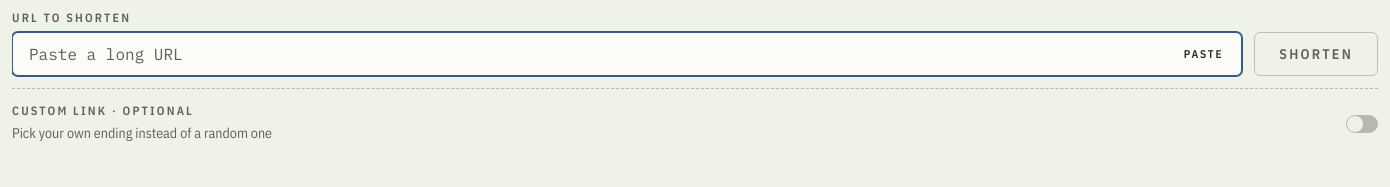
Test: UrlForm › Paste button › clears the message once the user types
Click the button "Paste" at (1204, 54), box [1173,40,1234,68]
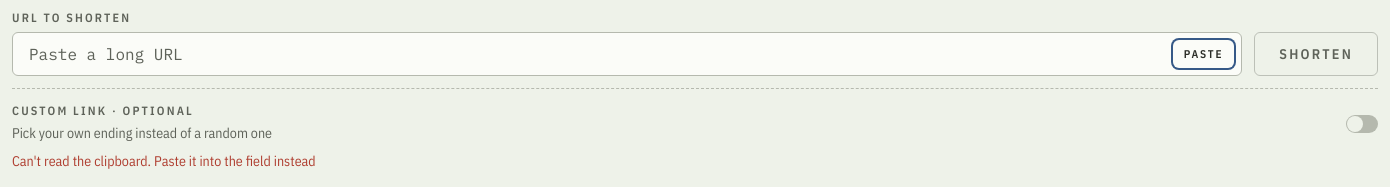
Expected: the message "Can't read the clipboard. Paste it into the field instead" is shown, [12,152,316,170]
Type "h" into the field labelled "URL to shorten" at (627, 54), box [12,32,1242,76]
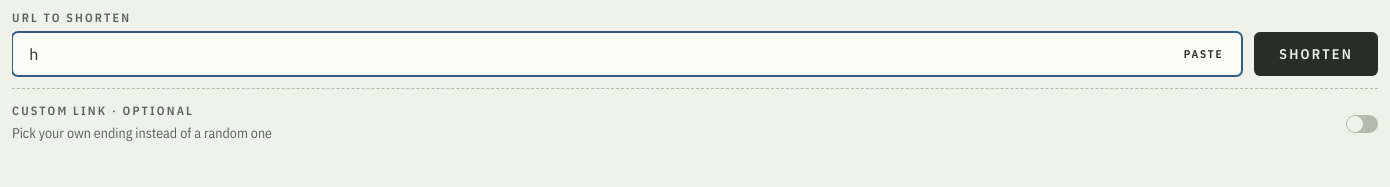
Expected: the message "Can't read the clipboard. Paste it into the field instead" is gone
